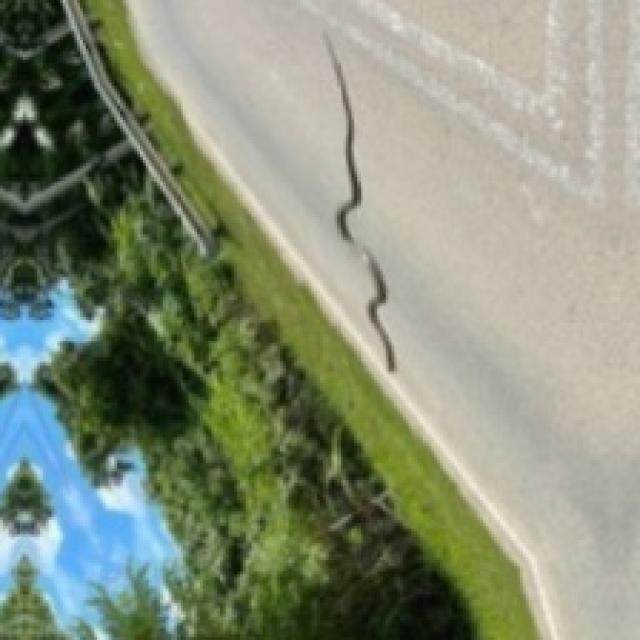king cobra: (323, 31, 394, 369)
